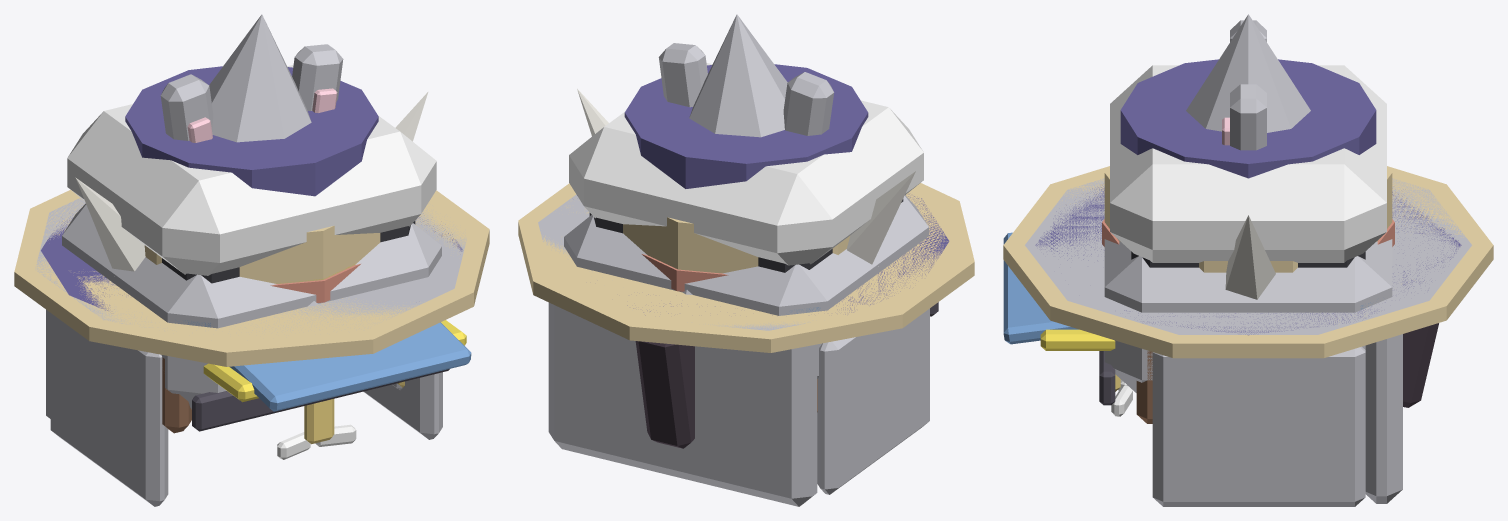
Rendered from warga_kit.glb.
The picture shows the model from 3 angles, left to right: view 1: azimuth 30°, elevation 25°; view 2: azimuth 150°, elevation 25°; view 3: azimuth 270°, elevation 25°; orthographic projection. The views are drawn at different scales.
Visible parts, largest first — view 1: puff, brim, dome.006, drape.001, crown.002, brim.002, cone, brim.007, crown, drape, horn.001, visor (+13 smaller); view 2: backdrape, puff, brim, drape.001, dome.006, crown.002, cone, tail, crown, ear.001, ear, horn.001 (+5 smaller); view 3: drape, puff, brim.007, brim, crown.002, dome.006, cone, backdrape, brim.006, brim.002, horn, ear (+6 smaller).
Part boxes in pixels (left/top/right/bottom): puff: left=67, top=65, right=436, bottom=275; brim: left=14, top=190, right=489, bottom=366; dome.006: left=62, top=203, right=441, bottom=408; drape.001: left=50, top=313, right=168, bottom=506; crown.002: left=125, top=66, right=378, bottom=196; brim.002: left=229, top=322, right=471, bottom=411; cone: left=114, top=14, right=317, bottom=306; brim.007: left=35, top=198, right=466, bottom=332; crown: left=144, top=225, right=380, bottom=283; drape: left=363, top=372, right=442, bottom=439; horn.001: left=75, top=177, right=145, bottom=271; visor: left=192, top=369, right=449, bottom=431; backdrape: left=548, top=302, right=817, bottom=506; puff: left=569, top=63, right=923, bottom=265; brim: left=518, top=183, right=974, bottom=352; drape.001: left=817, top=308, right=929, bottom=494; dome.006: left=564, top=195, right=928, bottom=378; crown.002: left=624, top=64, right=868, bottom=188; cone: left=683, top=14, right=878, bottom=294; tail: left=635, top=341, right=694, bottom=448; crown: left=623, top=217, right=849, bottom=273; ear.001: left=783, top=72, right=834, bottom=135; ear: left=658, top=43, right=707, bottom=107; horn.001: left=847, top=171, right=915, bottom=264; drape: left=1152, top=346, right=1365, bottom=506; puff: left=1110, top=65, right=1386, bottom=262; brim.007: left=1025, top=178, right=1471, bottom=334; brim: left=1003, top=166, right=1493, bottom=358; crown.002: left=1120, top=59, right=1376, bottom=178; dome.006: left=1104, top=239, right=1392, bottom=392; cone: left=1186, top=14, right=1310, bottom=132; backdrape: left=1365, top=334, right=1402, bottom=503; brim.006: left=1035, top=185, right=1461, bottom=335; brim.002: left=1003, top=232, right=1078, bottom=344; horn: left=1225, top=215, right=1275, bottom=299; ear: left=1230, top=84, right=1266, bottom=150.
Bounding box in the file's own units: 0.875 × 0.899 × 0.92.
